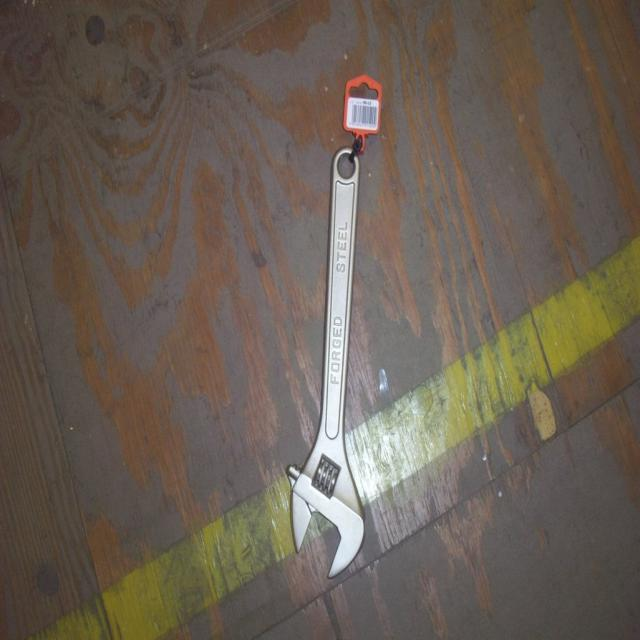wrench: (284, 137, 386, 607)
